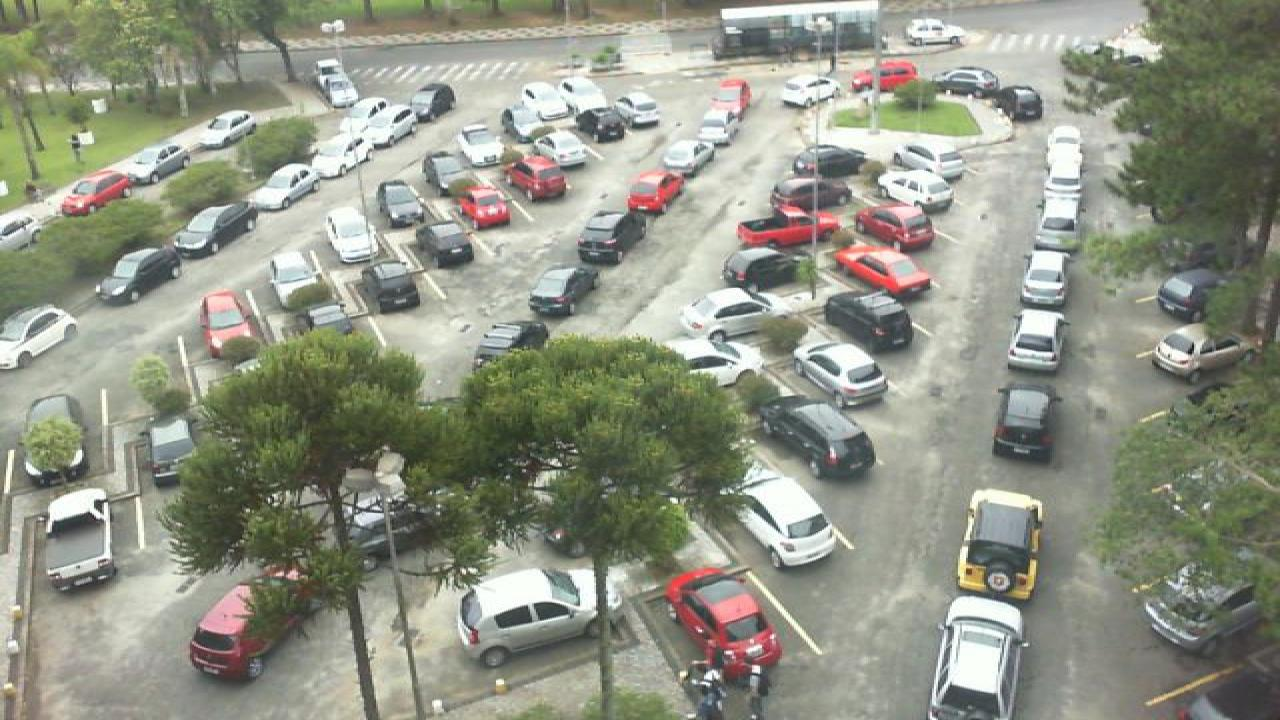Car: (186, 569, 316, 685), (456, 567, 600, 667), (926, 595, 1028, 720), (662, 566, 784, 668), (722, 461, 838, 568), (1140, 566, 1258, 657), (952, 487, 1044, 603), (762, 392, 876, 480), (40, 487, 120, 594), (18, 393, 84, 487), (796, 344, 892, 408), (1152, 325, 1252, 385), (822, 290, 912, 352), (680, 287, 778, 342), (836, 243, 932, 299), (992, 384, 1058, 464), (0, 306, 80, 370), (172, 200, 260, 258), (720, 245, 822, 295), (96, 248, 182, 306), (678, 336, 766, 392), (196, 290, 260, 360), (852, 204, 936, 255), (736, 205, 840, 246), (1156, 268, 1228, 326), (1006, 308, 1070, 373), (146, 416, 202, 490), (470, 321, 550, 371), (576, 209, 644, 267), (58, 169, 140, 216), (244, 162, 320, 212), (878, 168, 956, 214), (114, 142, 194, 185), (530, 267, 598, 317), (772, 174, 856, 214), (266, 251, 328, 305), (360, 262, 424, 314), (324, 206, 382, 262), (1016, 250, 1070, 310), (500, 109, 570, 155), (182, 109, 260, 149), (500, 156, 566, 202), (416, 220, 476, 269), (628, 168, 686, 216), (892, 144, 966, 181), (376, 180, 428, 232), (792, 145, 870, 178), (458, 180, 512, 227), (1034, 201, 1080, 253), (422, 151, 470, 198), (512, 81, 562, 126), (932, 66, 1002, 98), (850, 60, 920, 91), (308, 143, 366, 180), (552, 77, 604, 118), (312, 116, 372, 151), (300, 302, 354, 340), (660, 136, 714, 174), (782, 74, 840, 109), (460, 124, 506, 168), (1042, 161, 1084, 209), (406, 84, 456, 124), (364, 114, 422, 148), (572, 107, 624, 143), (348, 98, 402, 132), (996, 84, 1044, 121), (616, 90, 662, 128), (340, 134, 396, 165), (1046, 125, 1084, 169), (314, 73, 360, 109), (904, 18, 962, 46), (692, 106, 732, 145), (714, 78, 752, 114), (312, 59, 344, 81)
